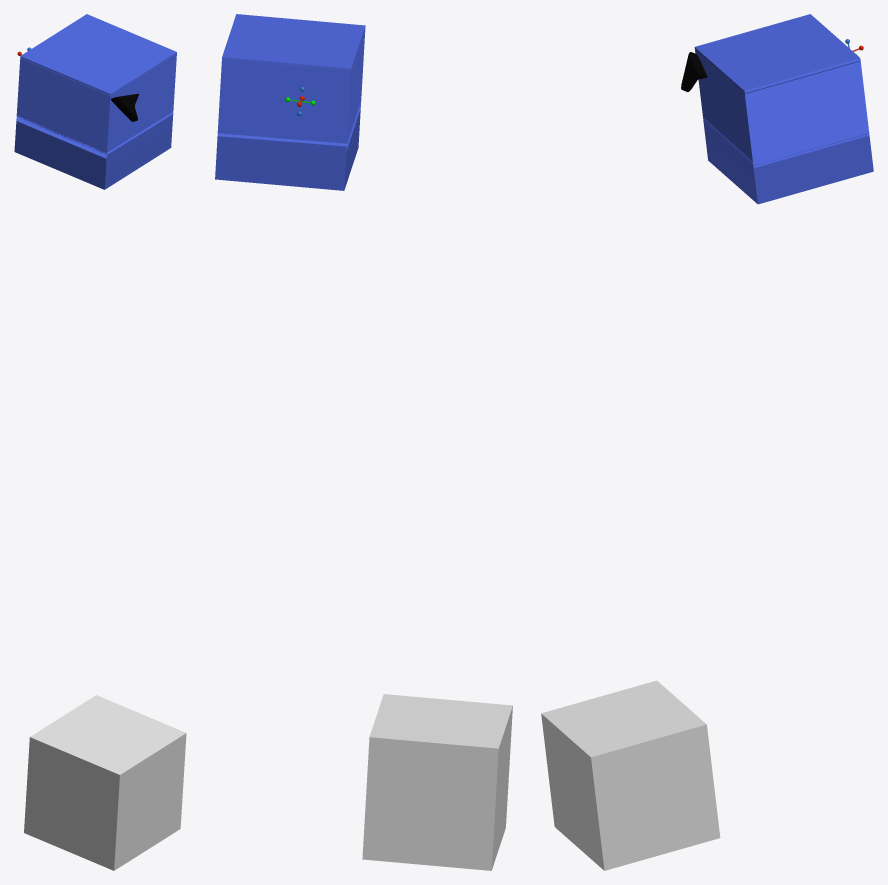
The model's file is 3D_skill_1.glb.
3 renders of one model, left to right at view 1: azimuth 30°, elevation 25°; view 2: azimuth 150°, elevation 25°; view 3: azimuth 270°, elevation 25°, orthographic. The views are drawn at different scales.
Visible parts, largest first — view 1: Cube_003, Cube.003, Plane.007; view 2: Cube_003, Cube.003; view 3: Cube_003, Cube.003.
Part boxes in pixels (<box>): Cube_003: <box>24,695,186,870</box>; Cube.003: <box>14,14,176,189</box>; Plane.007: <box>111,94,138,121</box>; Cube_003: <box>362,694,512,870</box>; Cube.003: <box>215,14,365,190</box>; Cube_003: <box>541,680,720,870</box>; Cube.003: <box>694,14,873,204</box>.
Size of what is drawn, in the model's own units: 2.07 by 7.8 by 2.84.
